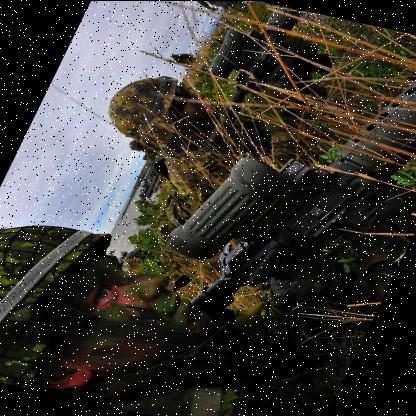rifle: (141, 11, 416, 343)
